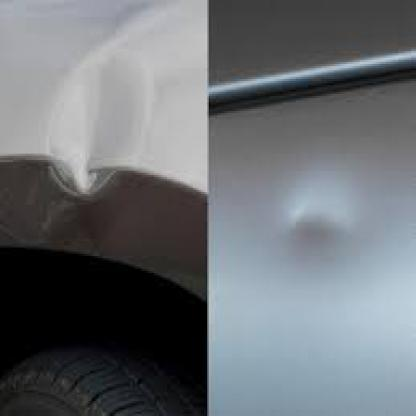dent: (46, 138, 127, 212)
